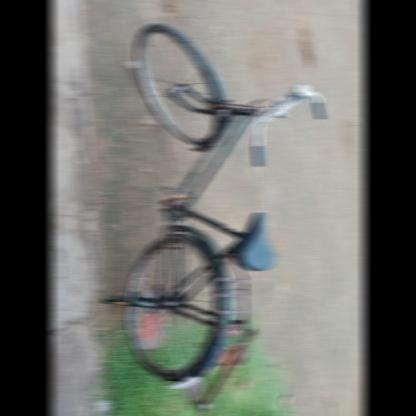Bicycle: (90, 4, 337, 414)
